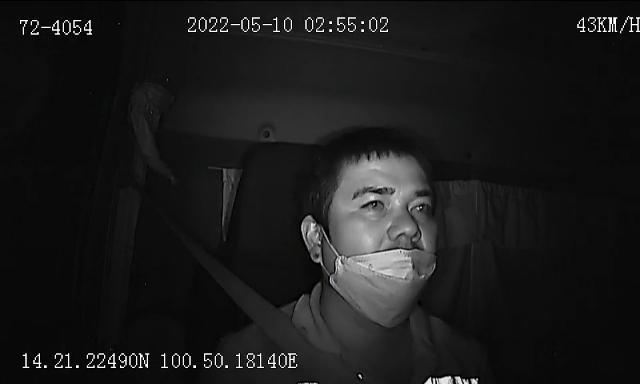SafeDriving: (354, 192, 392, 218), (404, 192, 436, 218)
Seatbelt: (180, 230, 336, 380)
